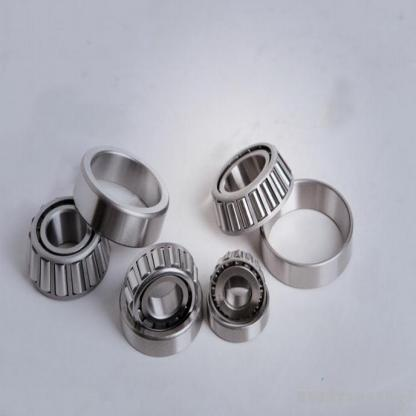FOD: (115, 240, 205, 360), (211, 143, 294, 238)
